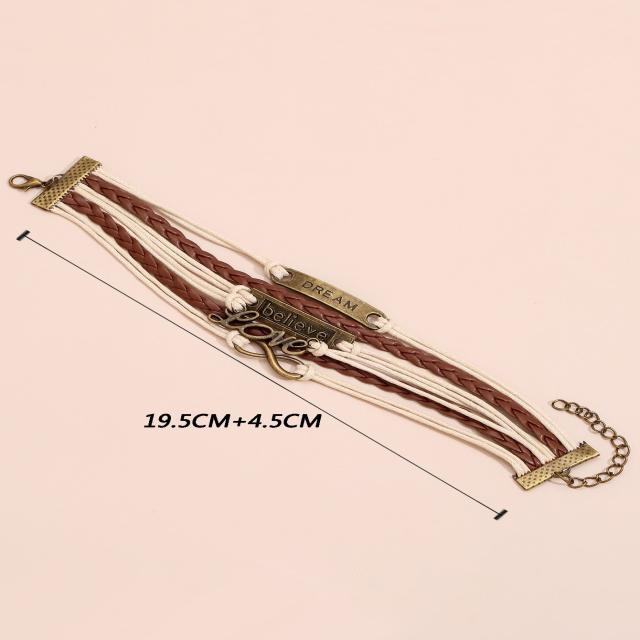bracelet: (3, 97, 640, 601)
